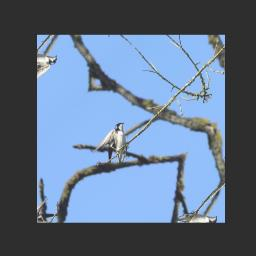Swallow: (90, 119, 145, 174)
